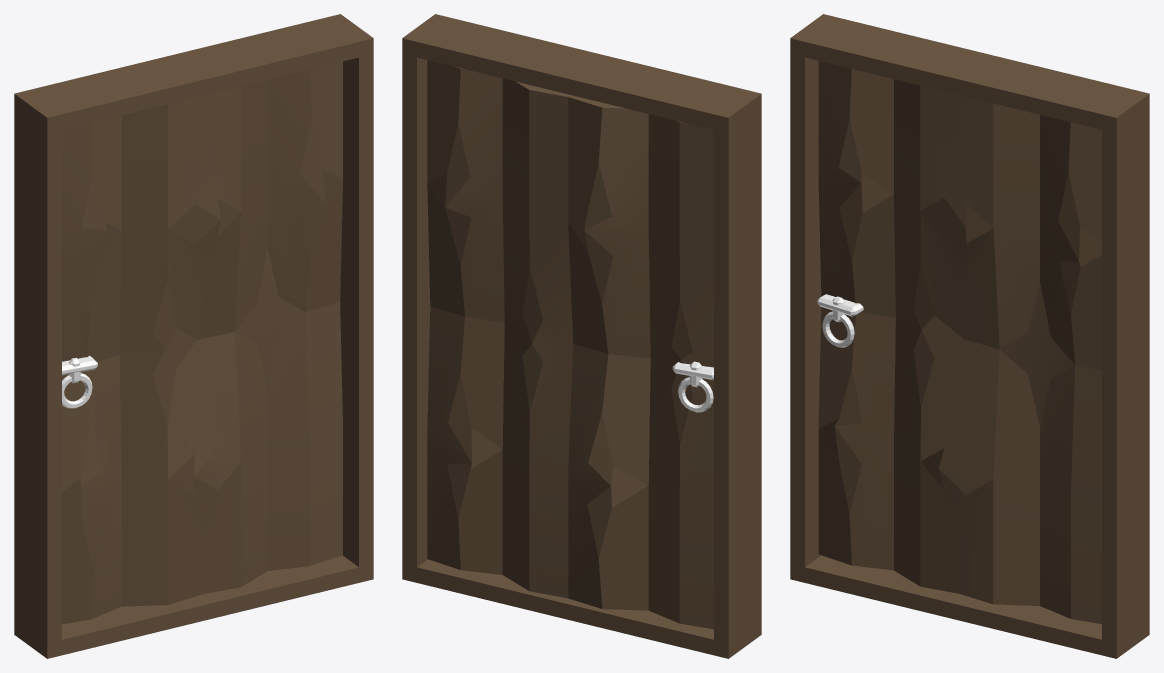
File: Door.fbx
3 views of the same model, side by side, from view 1: azimuth 30°, elevation 25°; view 2: azimuth 150°, elevation 25°; view 3: azimuth 330°, elevation 25° (orthographic).
Parts seen in each view (by area): view 1: Cube.021, Cube.020; view 2: Cube.021, Cube.020; view 3: Cube.021, Cube.020.
Part boxes in pixels (x1,y1,x2,y2): Cube.021: (62, 61, 342, 624); Cube.020: (14, 14, 373, 658); Cube.021: (427, 60, 713, 629); Cube.020: (402, 14, 761, 658); Cube.021: (817, 61, 1101, 624); Cube.020: (790, 14, 1149, 658).
Size of the model in its own units: 84.43 by 134 by 17.64.
